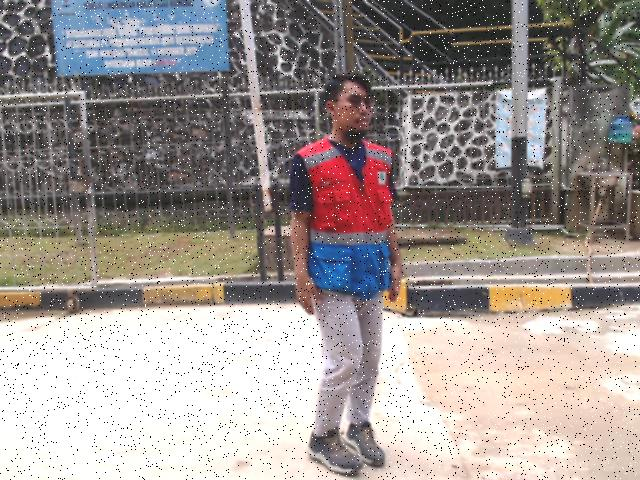safety-shoes: (304, 422, 362, 477), (345, 417, 387, 469)
